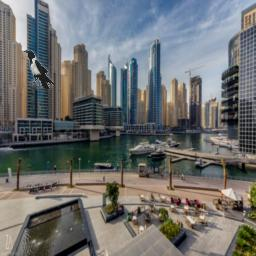Crow: (24, 50, 54, 90)
